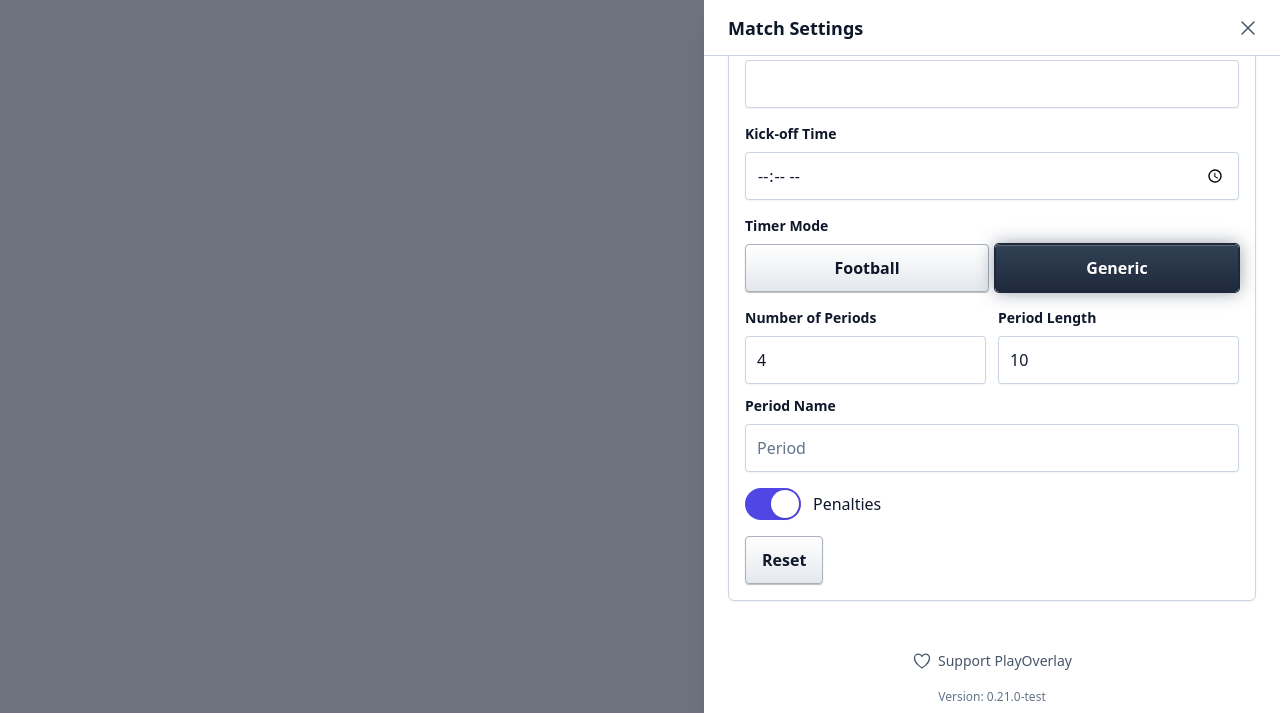
Scenario: MatchSettingsMenu numeric timer fields › refuses period count 2.5 with an inline error and leaves the setting alone
(page scrolled)
Step 1. Replace the text in the number field labelled "Number of Periods" with "2.5" → [866, 360], box [745, 336, 986, 384]
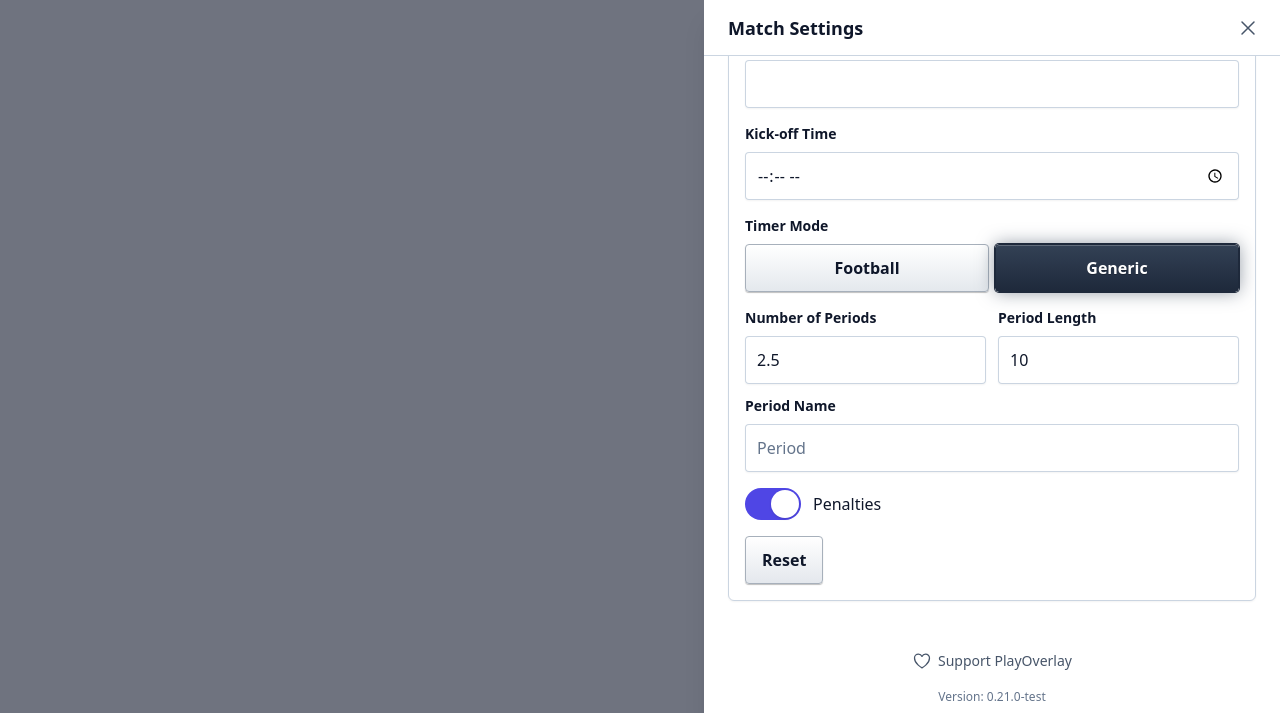
Step 2. Leave the number field labelled "Number of Periods", box [745, 336, 986, 384]
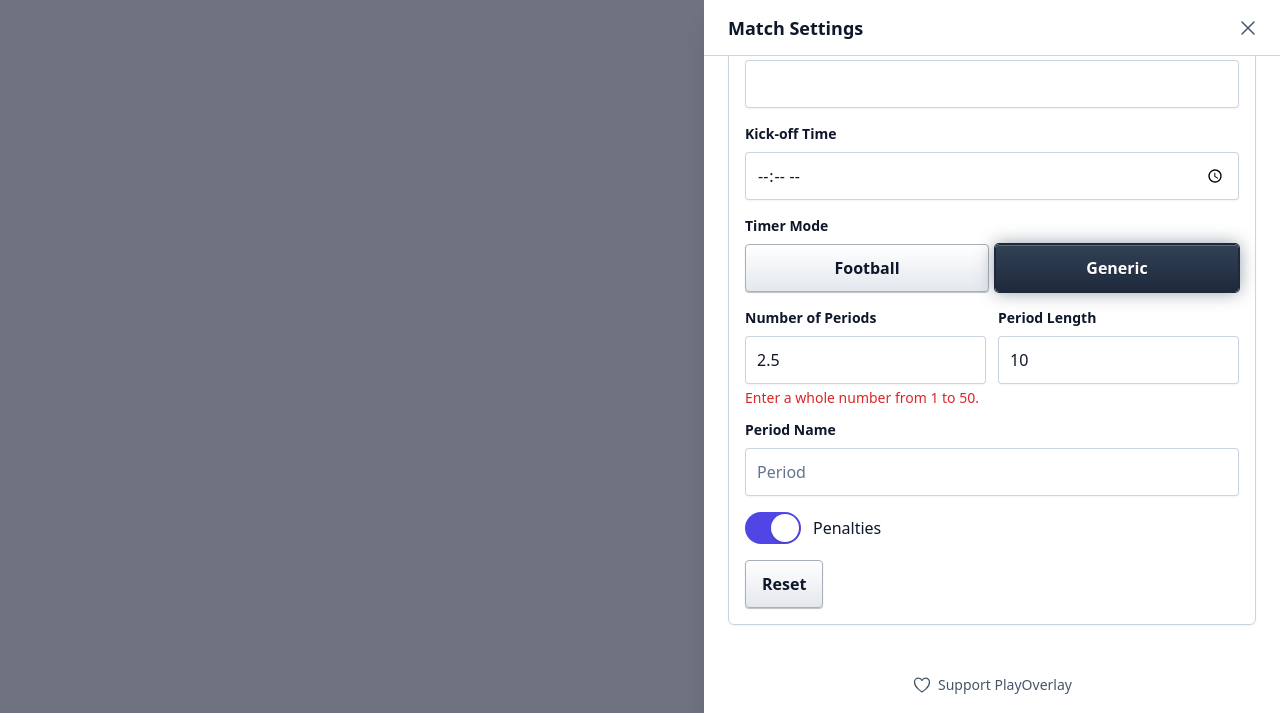
Expected: the text "Enter a whole number from 1 to 50." is shown, [745, 388, 986, 408]
